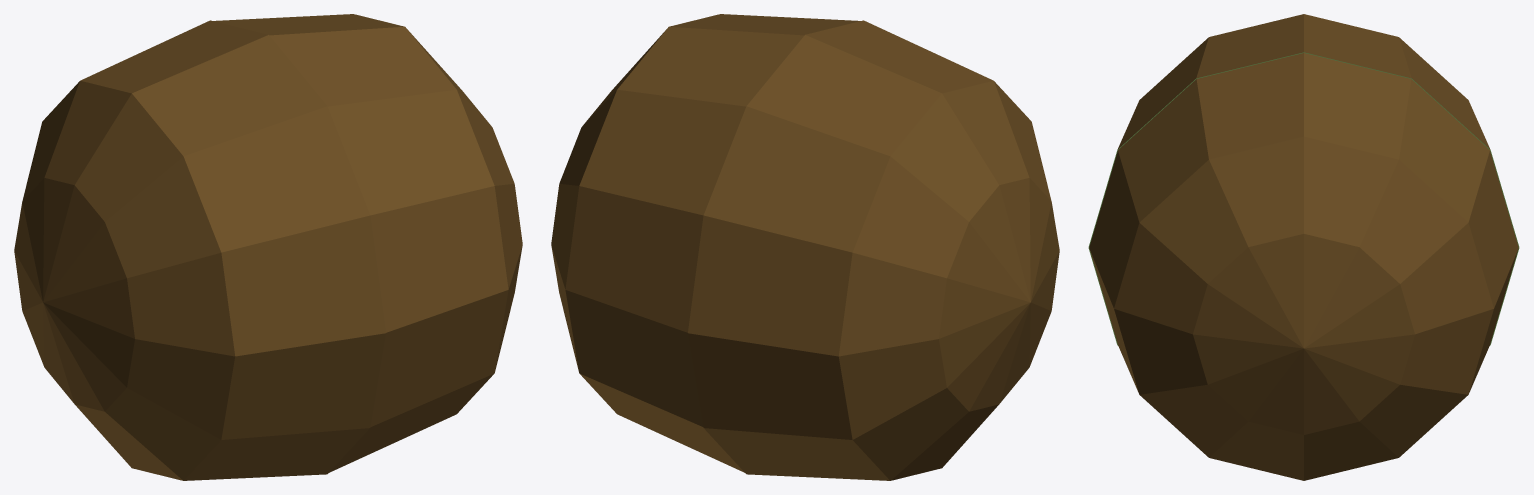
Rendered from kiviSlicedKOOL.fbx.
3 renders of one model, left to right at view 1: azimuth 30°, elevation 25°; view 2: azimuth 150°, elevation 25°; view 3: azimuth 270°, elevation 25°, orthographic. The views are drawn at different scales.
Visible parts, largest first — view 1: Sphere.005, Sphere.010; view 2: Sphere.005, Sphere.010; view 3: Sphere.010, Sphere.005.
Boxes of the visible parts, bbox=[...] form: Sphere.005: bbox=[14, 20, 385, 480]; Sphere.010: bbox=[213, 14, 522, 472]; Sphere.005: bbox=[688, 20, 1059, 480]; Sphere.010: bbox=[551, 14, 860, 472]; Sphere.010: bbox=[1089, 53, 1518, 480]; Sphere.005: bbox=[1088, 14, 1519, 345].
Bounding box in the file's own units: 190 × 171 × 171.
